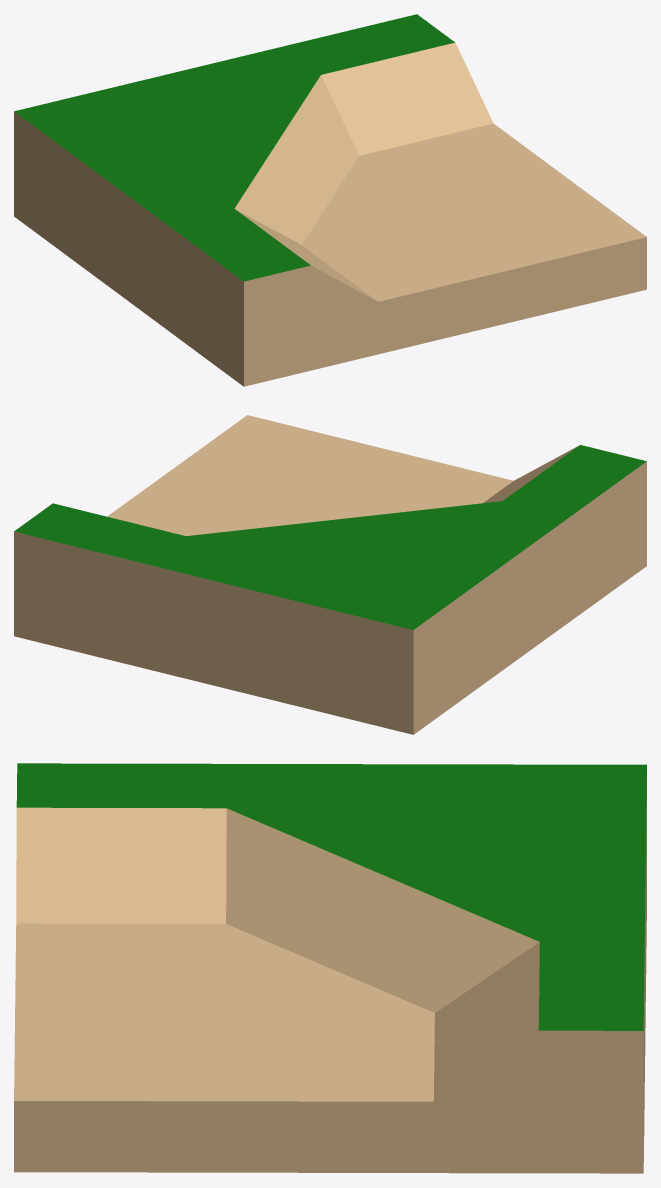
File: tile_corner_2.glb
3 views of the same model, one above another, from view 1: azimuth 30°, elevation 25°; view 2: azimuth 150°, elevation 25°; view 3: azimuth 270°, elevation 25° (orthographic). The views are drawn at different scales.
Parts seen in each view (by area): view 1: Plane.020; view 2: Plane.020; view 3: Plane.020.
Part boxes in pixels (x1=…): Plane.020: x1=14, y1=14, x2=646, y2=386; Plane.020: x1=14, y1=415, x2=646, y2=734; Plane.020: x1=14, y1=763, x2=646, y2=1173.
Size of the model in its own units: 2.01 by 0.5 by 2.01.
